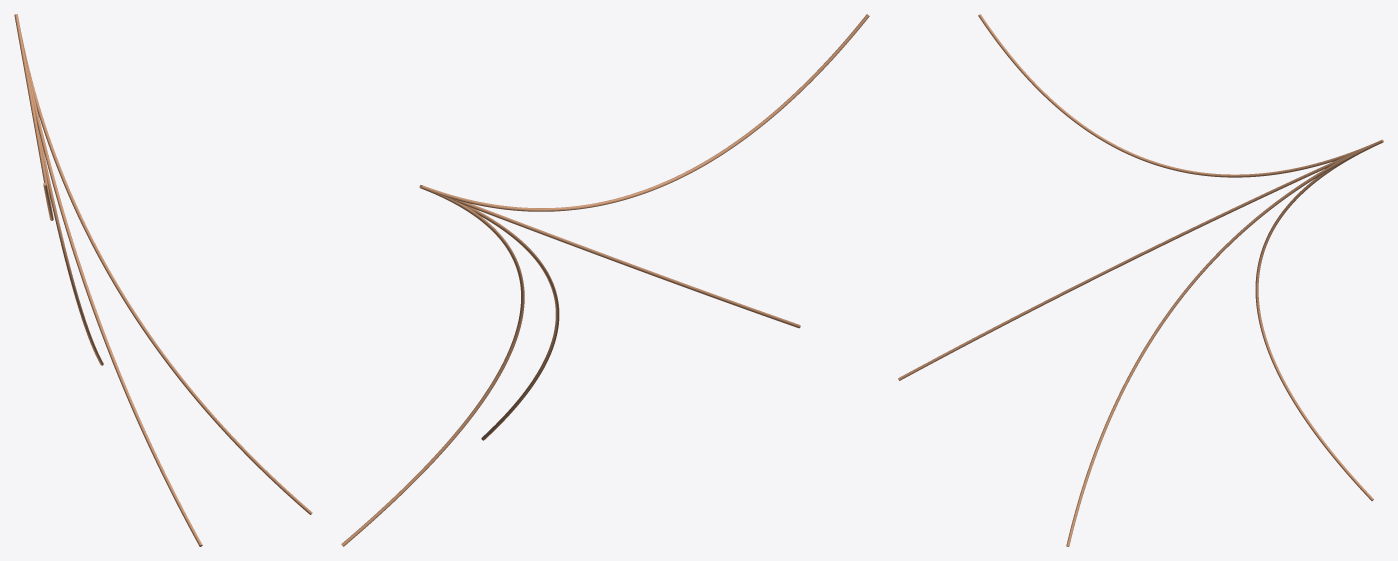
The model's file is TodaysDilemaSTRINGS.gltf.
The picture shows the model from 3 angles, left to right: view 1: azimuth 30°, elevation 25°; view 2: azimuth 150°, elevation 25°; view 3: azimuth 270°, elevation 25°; orthographic projection. The views are drawn at different scales.
Visible parts, largest first — view 1: TodaysDilemaSTRINGS; view 2: TodaysDilemaSTRINGS; view 3: TodaysDilemaSTRINGS.
Part boxes in pixels (x1=…): TodaysDilemaSTRINGS: x1=14, y1=14, x2=312, y2=546; TodaysDilemaSTRINGS: x1=341, y1=14, x2=869, y2=546; TodaysDilemaSTRINGS: x1=898, y1=14, x2=1383, y2=546.
Size of the model in its own units: 10.53 by 14.07 by 15.63.
